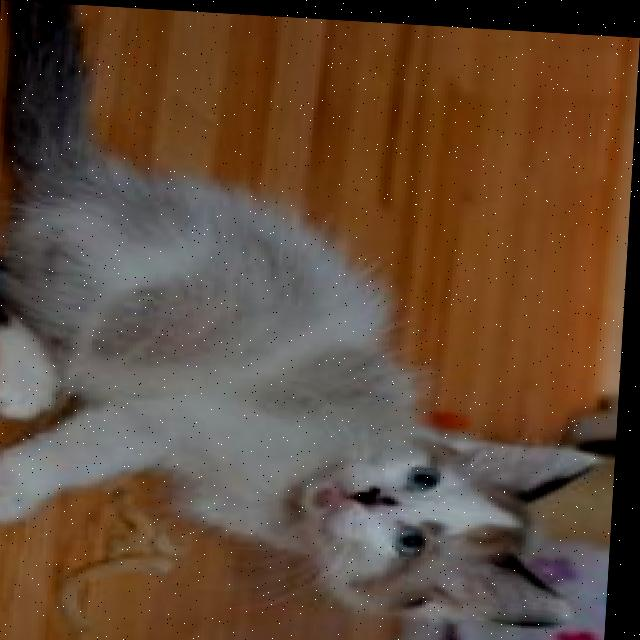Ragdoll: (0, 0, 632, 631)
